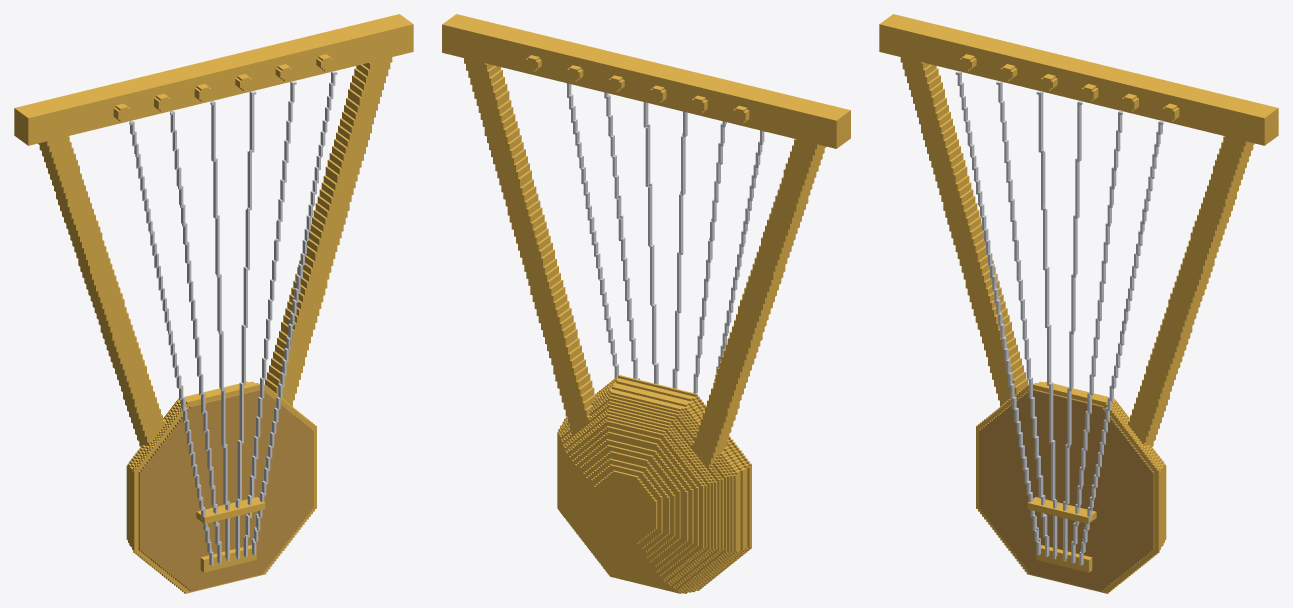
File: krar_golden.glb
3 views of the same model, side by side, from view 1: azimuth 30°, elevation 25°; view 2: azimuth 150°, elevation 25°; view 3: azimuth 330°, elevation 25° (orthographic). The views are drawn at different scales.
Visible parts, largest first — view 1: krar_golden:compound; view 2: krar_golden:compound; view 3: krar_golden:compound.
Part boxes in pixels (x1,y1,x2,y2): krar_golden:compound: (14,14,413,593); krar_golden:compound: (442,14,850,593); krar_golden:compound: (879,14,1278,593).
Bounding box in the file's own units: 0.76 × 0.96 × 0.144.
